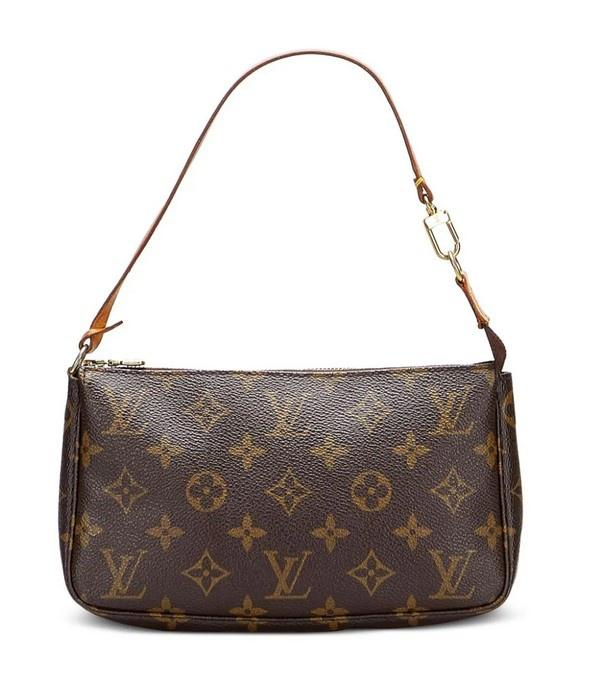LOUIS-VUITTON: (61, 357, 528, 631)
